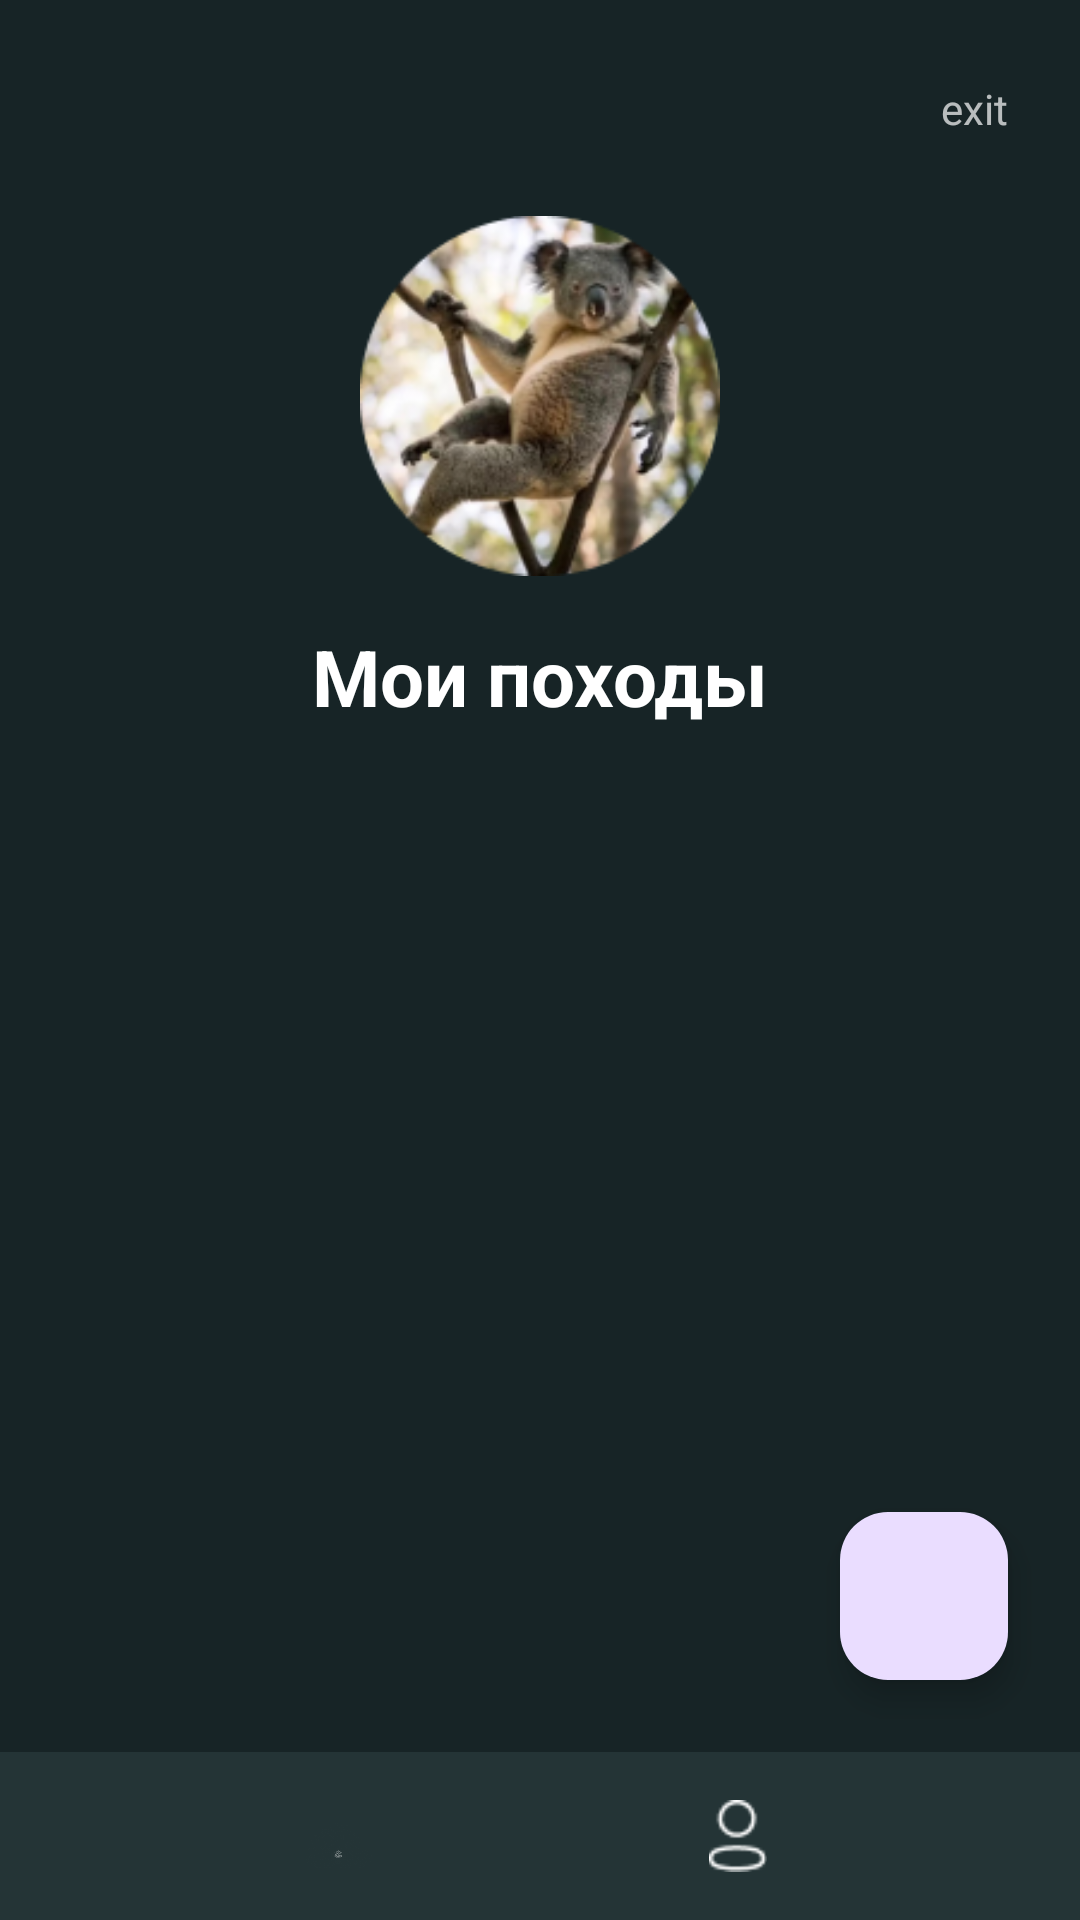

Locate icon controls on the screen. Image size 1080x1920, boxes as [x1=x1, y1=y1, x2=x2, y2=y2].
profile: [x1=709, y1=1800, x2=767, y2=1872]
